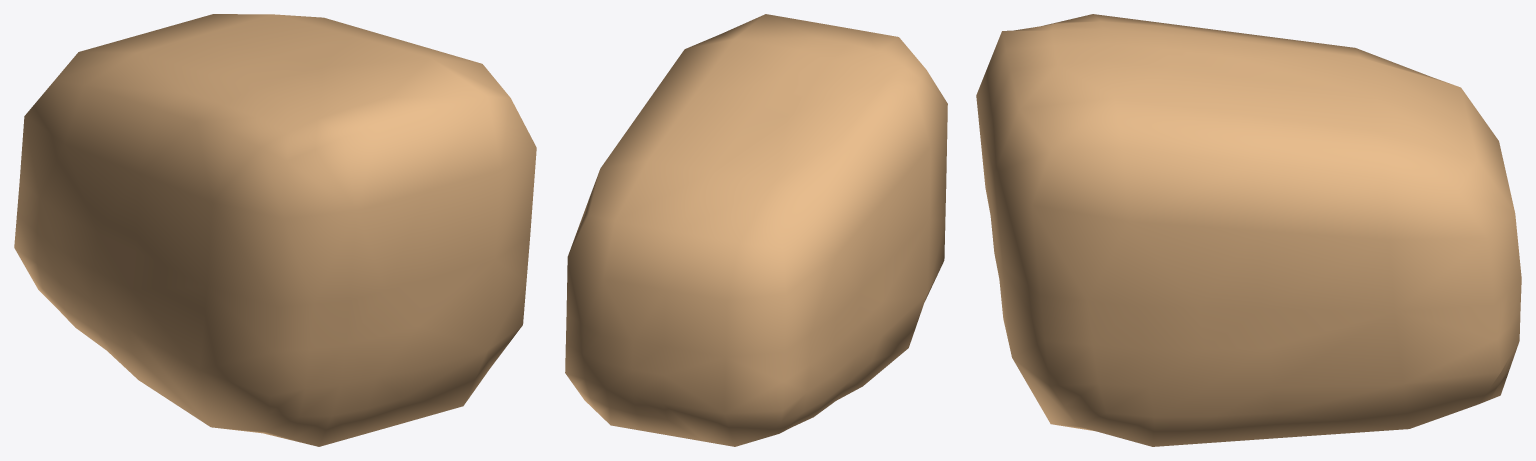
Rendered from index_03_l.dae.
3 views of the same model, side by side, from view 1: azimuth 30°, elevation 25°; view 2: azimuth 150°, elevation 25°; view 3: azimuth 270°, elevation 25° (orthographic). The views are drawn at different scales.
Visible parts, largest first — view 1: skin_geo_index_03_r; view 2: skin_geo_index_03_r; view 3: skin_geo_index_03_r.
Part boxes in pixels (<box>): skin_geo_index_03_r: <box>14,14,536,446</box>; skin_geo_index_03_r: <box>565,14,947,446</box>; skin_geo_index_03_r: <box>976,14,1521,446</box>.
Size of the model in its own units: 0.0152 by 0.0223 by 0.0157.
